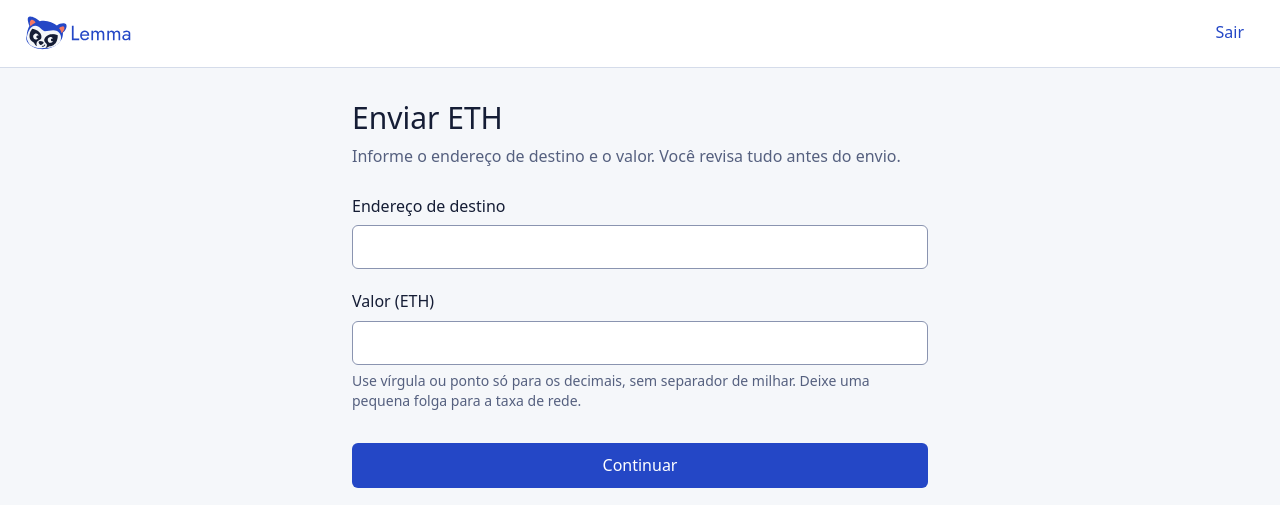
Scenario: SendPage: formulário › "Continuar" só muda de etapa: não chama a API
Expected: the heading "Enviar ETH" is shown, [352,97,503,138]
Step 1. Type "0x5B38Da6a701c568545dCfcB03FcB875f56beddC4" into the field labelled "Endereço de destino" → (640, 247), box [352,225,928,269]
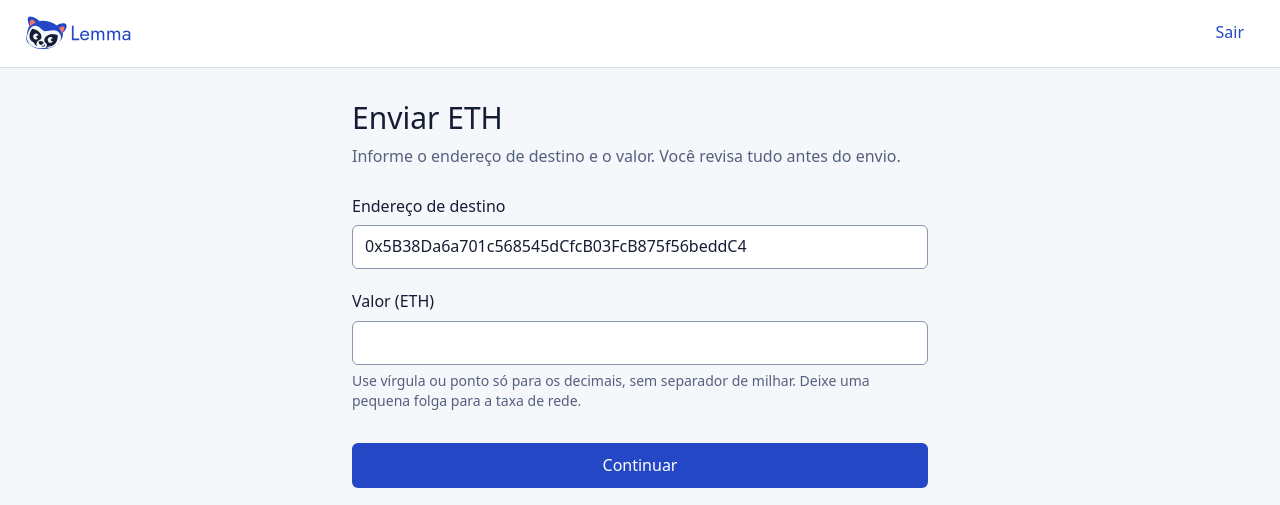
Step 2. Type "0,01" into the field labelled "Valor (ETH)" → (640, 343), box [352,321,928,365]
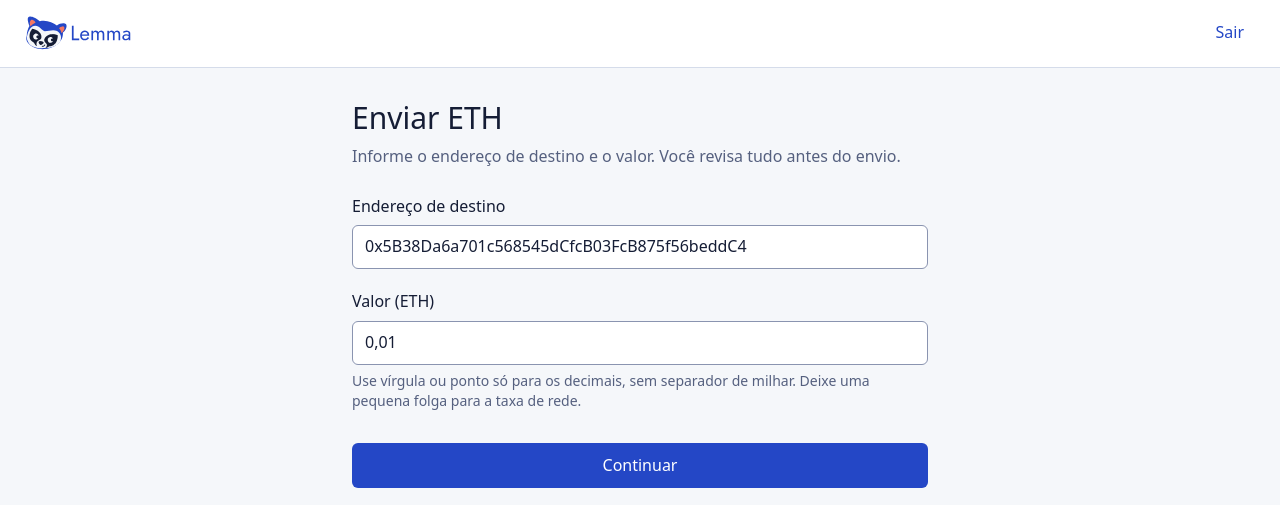
Step 3. Click the button "Continuar" → click(640, 466), box [352,443,928,488]
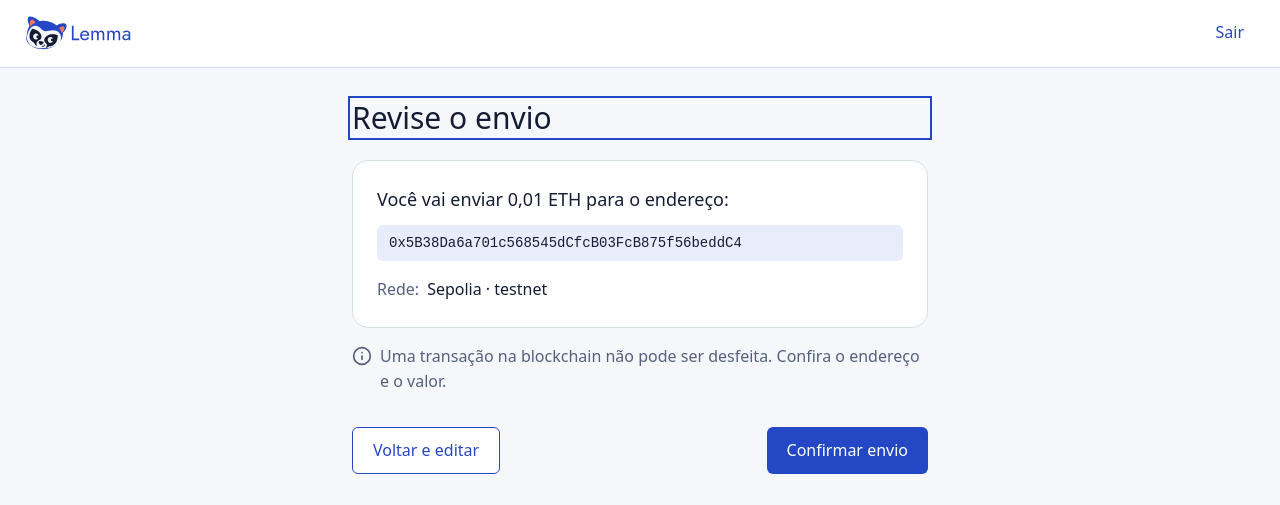
Result: the heading "Revise o envio" is shown at [352,97,552,138]
